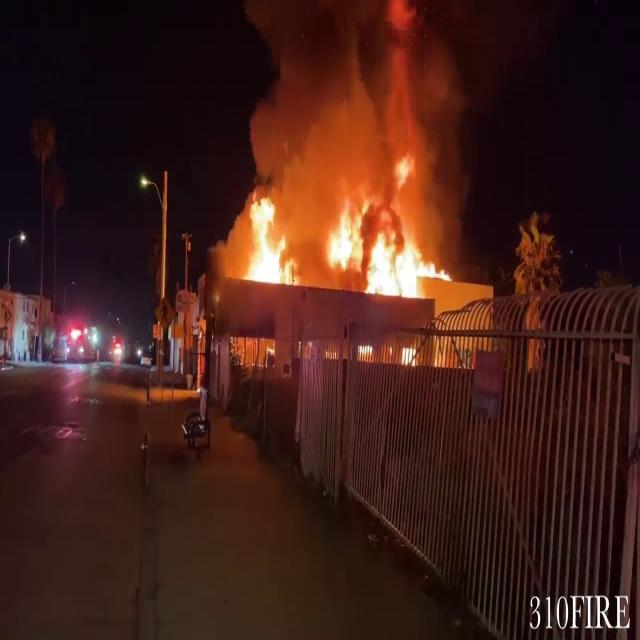Fire: (234, 157, 454, 300)
Smoke: (240, 1, 460, 195)
